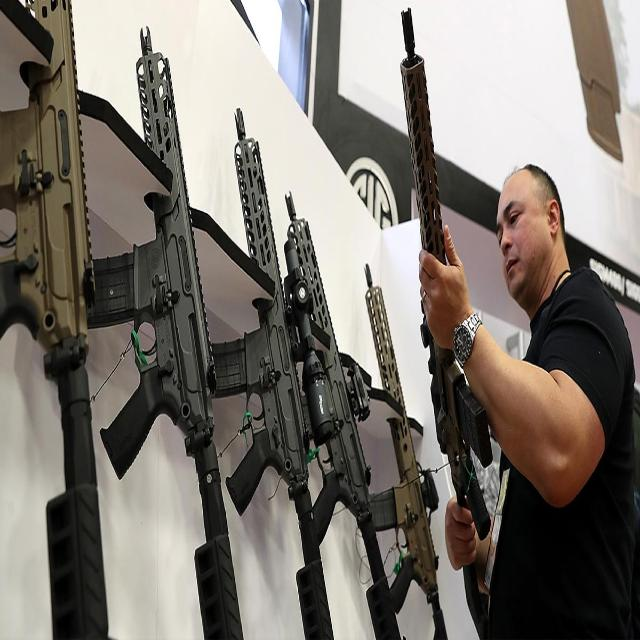Rifle: (0, 0, 244, 640), (211, 117, 334, 640), (401, 9, 492, 640), (285, 194, 404, 640), (366, 267, 447, 640)
